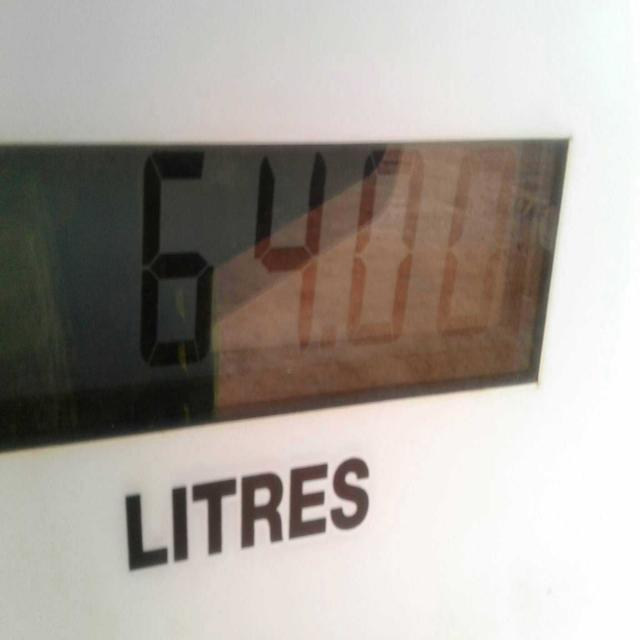.: (322, 322, 340, 361)
0: (346, 142, 428, 356), (439, 149, 514, 341)
4: (252, 155, 325, 356)
6: (138, 152, 215, 370)
screen: (1, 138, 576, 408)
